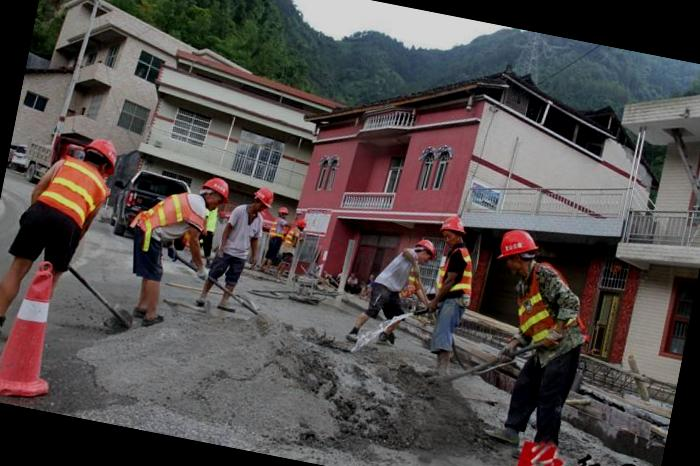helmet: (496, 226, 542, 262), (84, 132, 124, 170), (248, 184, 288, 212), (202, 169, 234, 202), (441, 212, 467, 233)
person: (460, 225, 608, 448), (109, 159, 236, 336), (1, 110, 125, 276), (411, 207, 493, 374), (352, 228, 441, 360), (202, 181, 283, 319)
